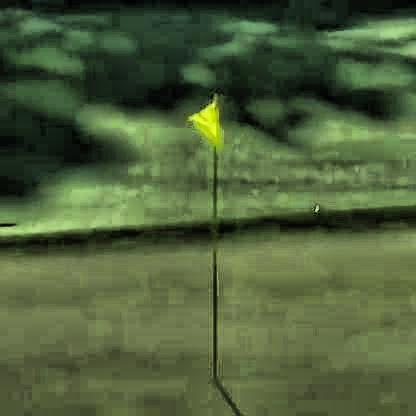golfball: (311, 199, 316, 209)
